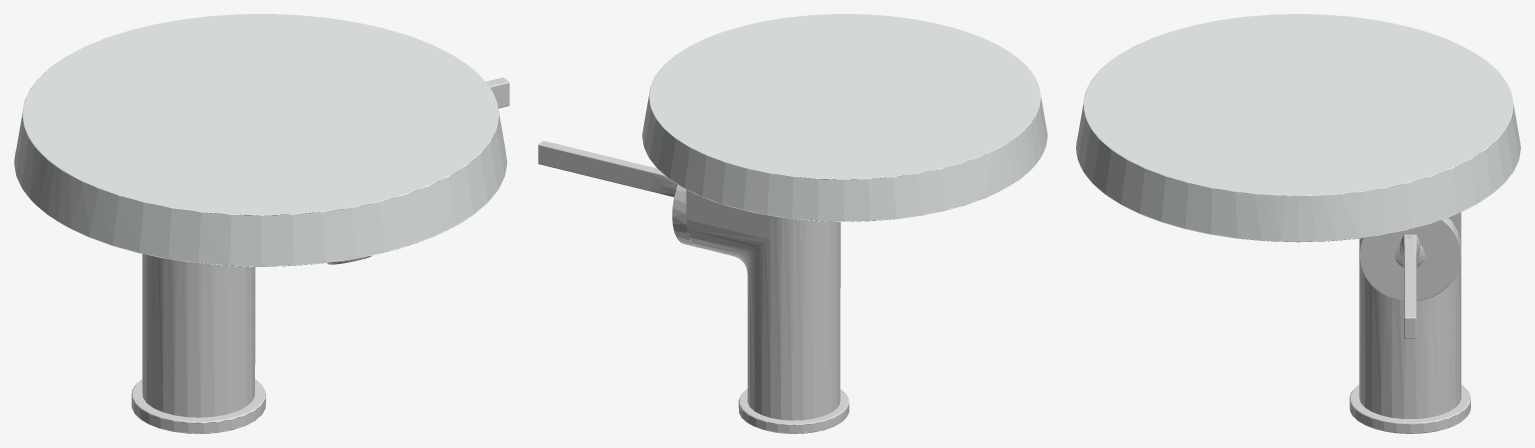
The model's file is AEC_47512.glb.
3 renders of one model, left to right at view 1: azimuth 30°, elevation 25°; view 2: azimuth 150°, elevation 25°; view 3: azimuth 270°, elevation 25°, orthographic. The views are drawn at different scales.
Parts seen in each view (by area): view 1: 0; view 2: 0; view 3: 0.
Part boxes in pixels (x1,y1,x2,y2): 0: (14, 14, 509, 433); 0: (538, 14, 1047, 433); 0: (1076, 14, 1520, 433).
Size of the model in its own units: 0.2236 by 0.138 by 0.1831.
1 material, 1 textured.
